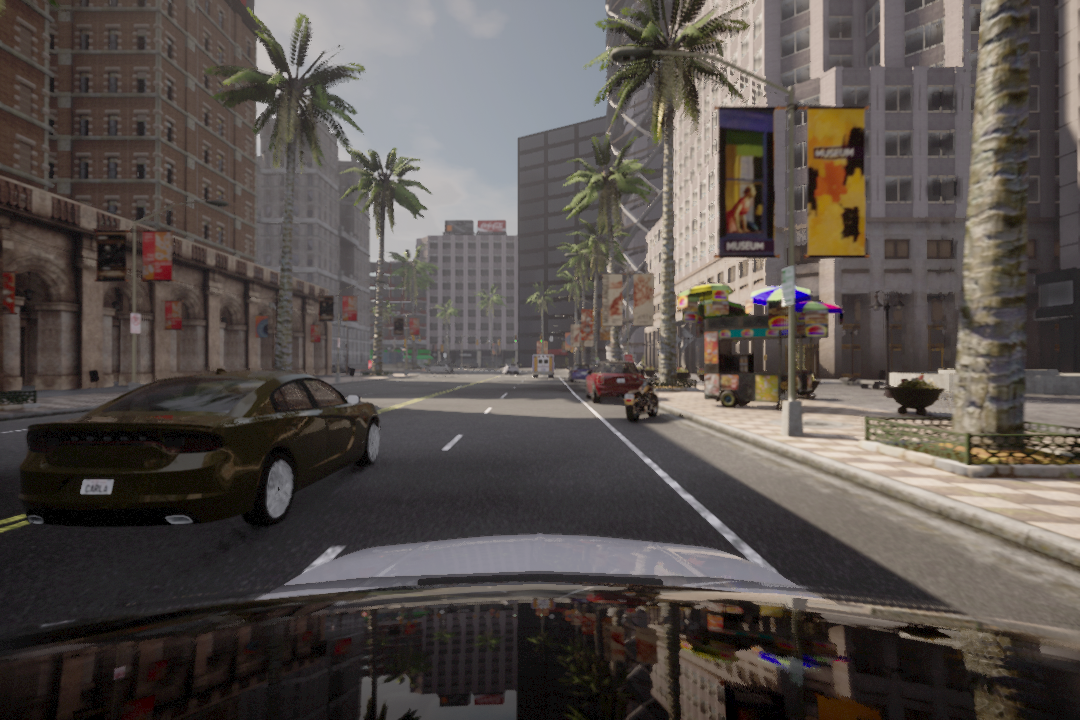TrafficSign_nstop: (131, 312, 141, 334)
